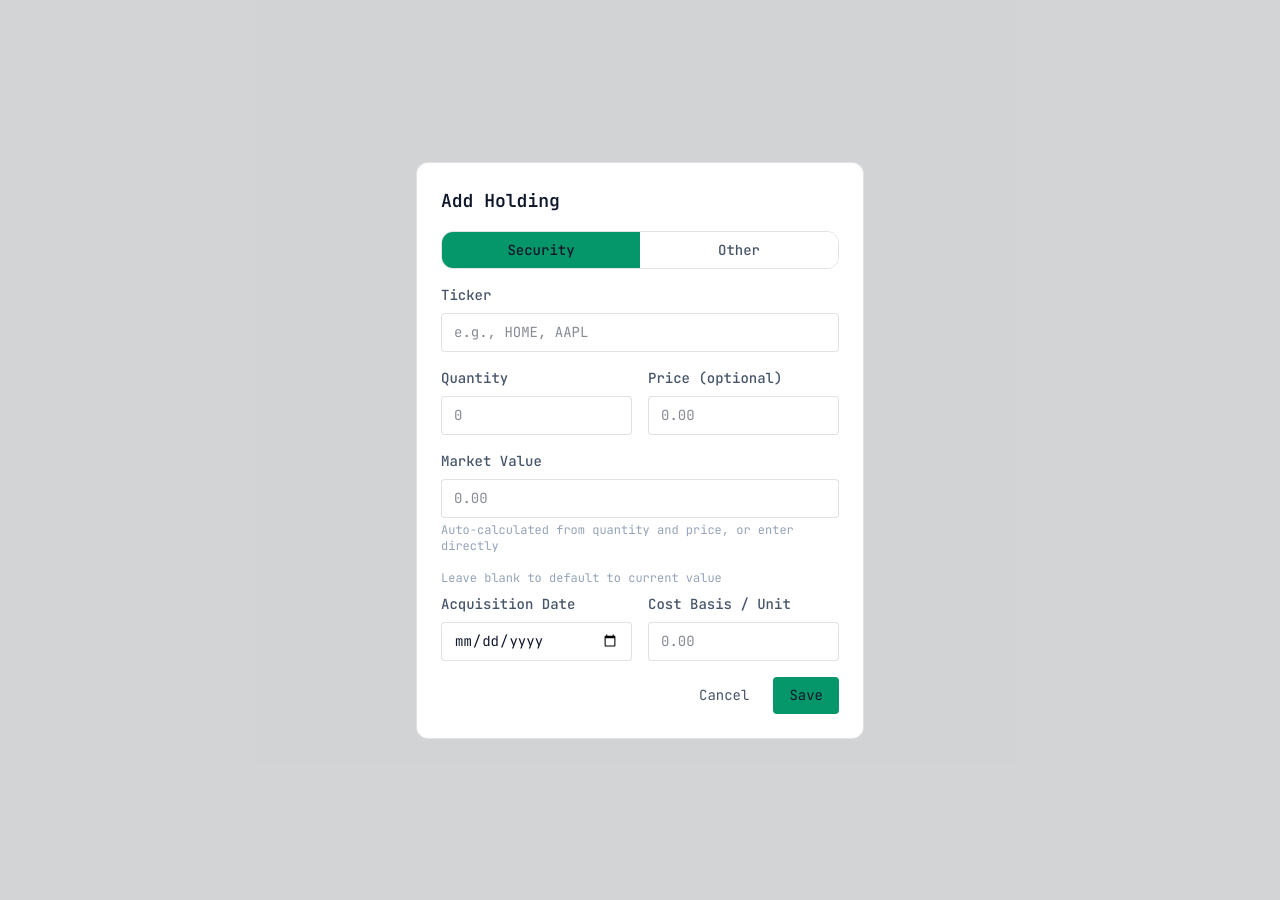
Test: HoldingFormModal › validates ticker is required in security mode
This screenshot has width=1280, height=900.
Type "500000" into the number field with test id "holding-market-value". click: (640, 498)
box: [441,478,839,518]
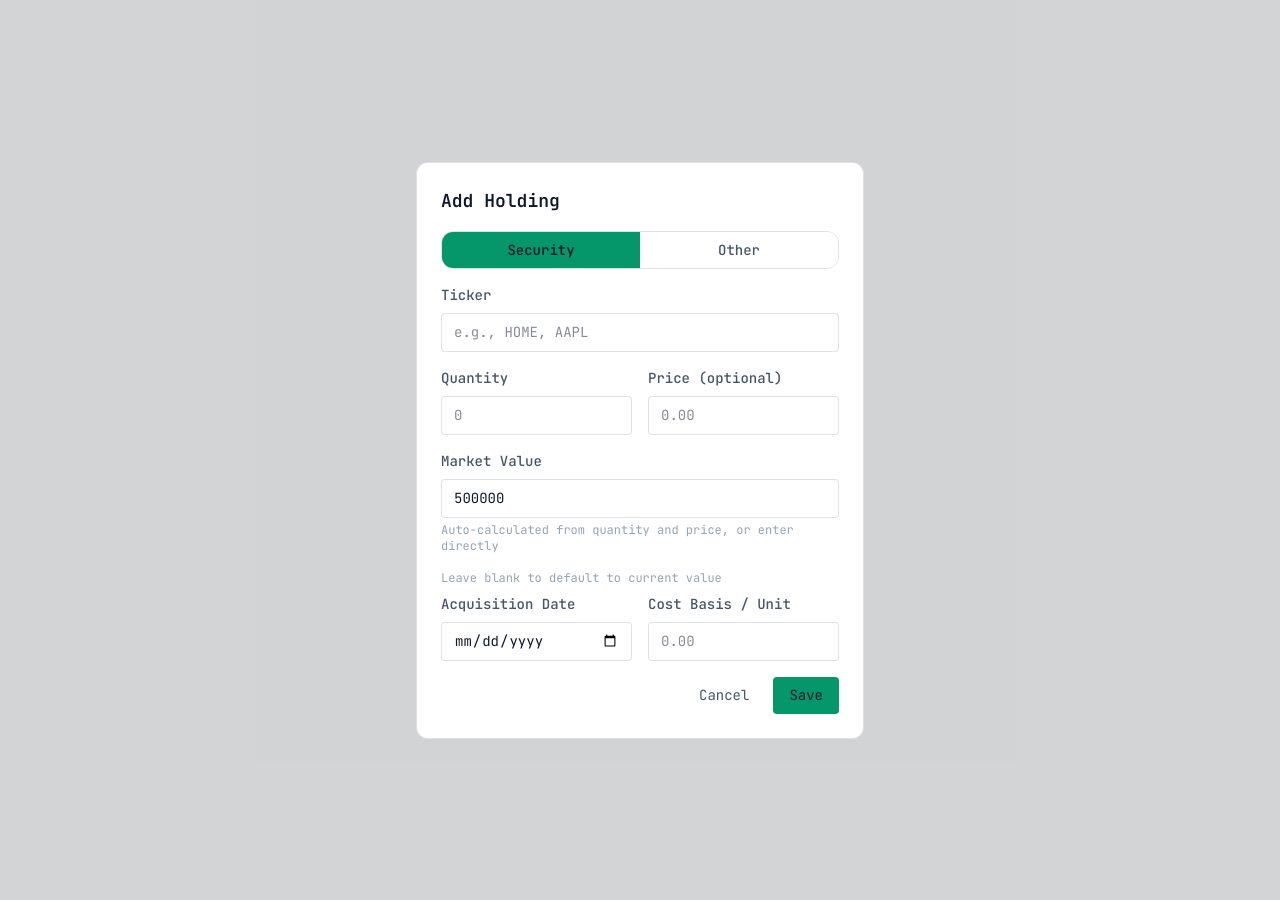
Click the button "Save". click: (806, 695)
box: [773,676,839,714]
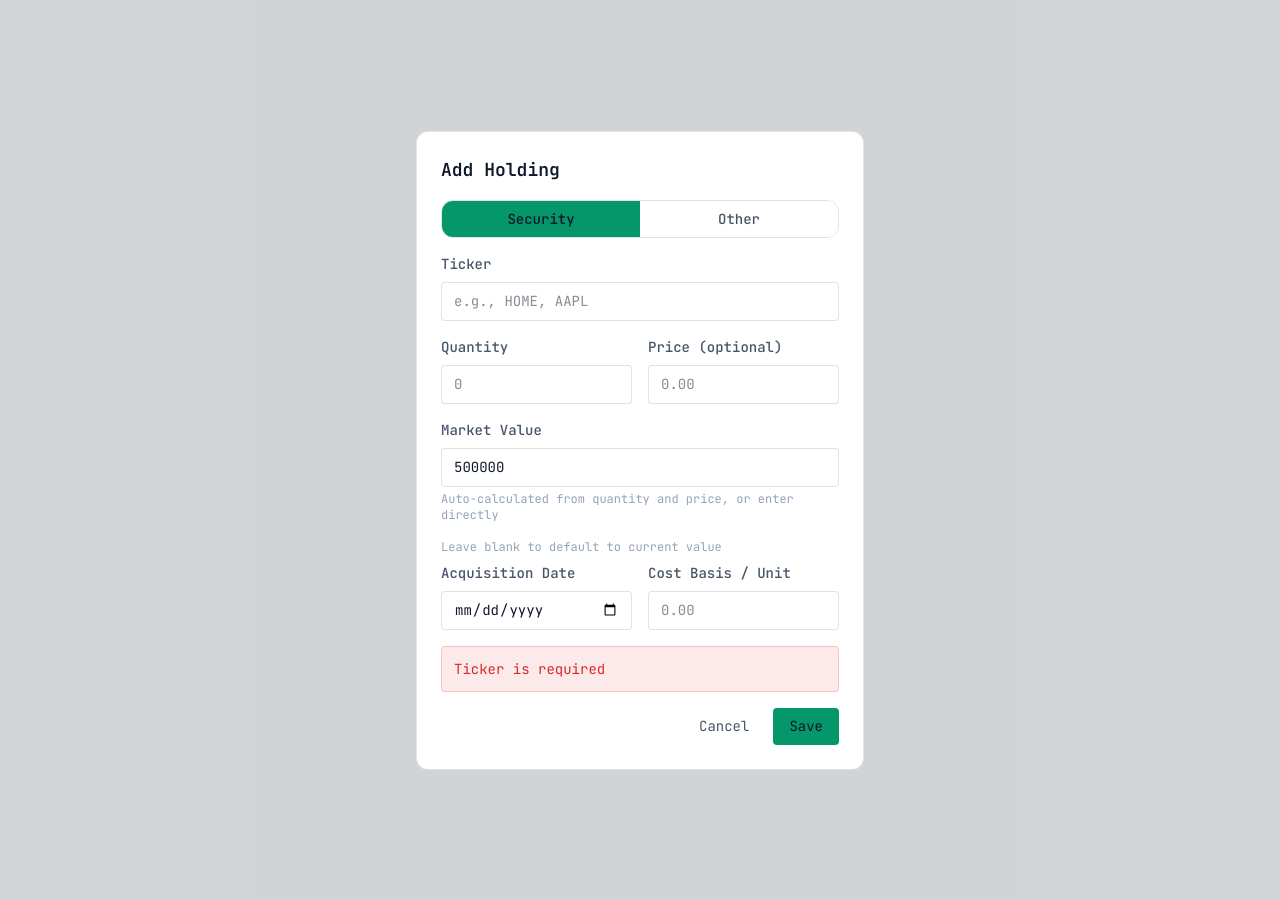
Now the text "Ticker is required" is shown, box [441,646,839,692]
